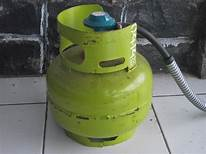gas_ijo: (46, 4, 153, 147)
